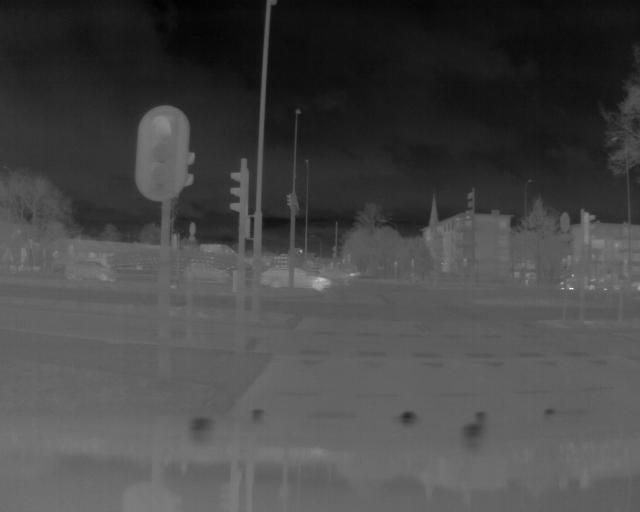car: (260, 259, 330, 293), (61, 257, 117, 286), (182, 259, 230, 286)
